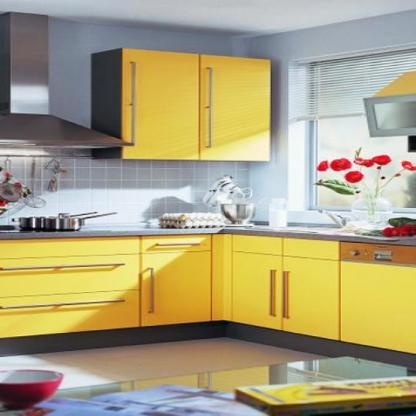other: (18, 241, 329, 330), (126, 53, 276, 164), (234, 387, 414, 408), (309, 152, 412, 188), (0, 366, 73, 402), (385, 78, 412, 92), (384, 226, 413, 237)
